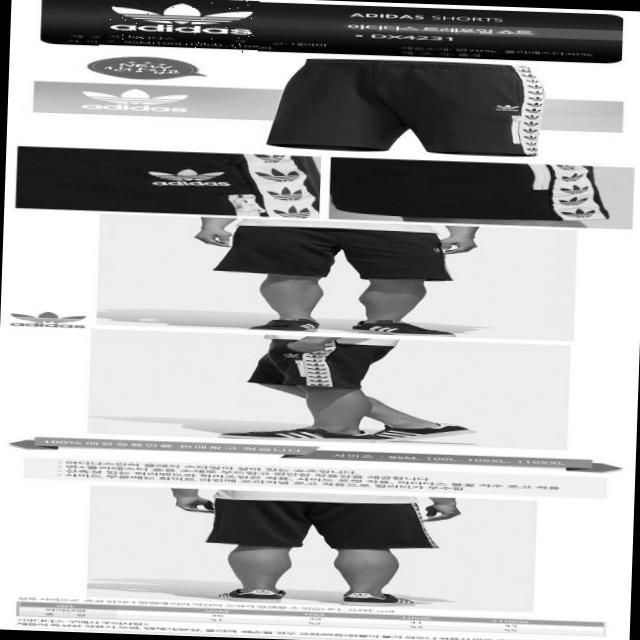Adidas: (98, 0, 259, 53)
